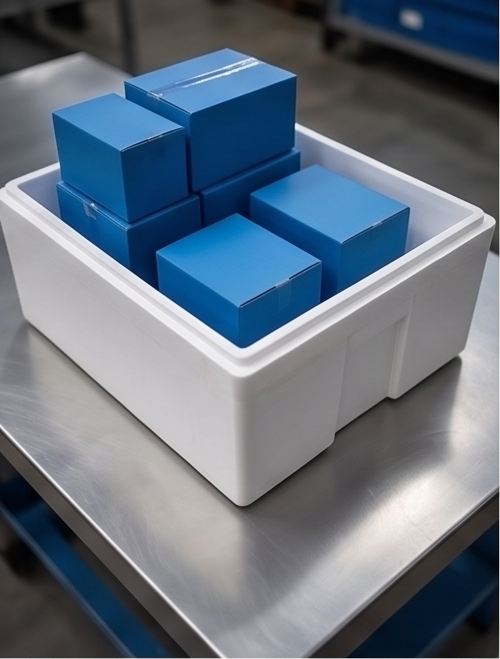blue_box: (124, 48, 295, 194), (153, 212, 321, 351), (248, 160, 409, 303), (53, 91, 188, 223), (56, 181, 201, 289), (198, 148, 300, 227)
container_box: (0, 95, 496, 508)
